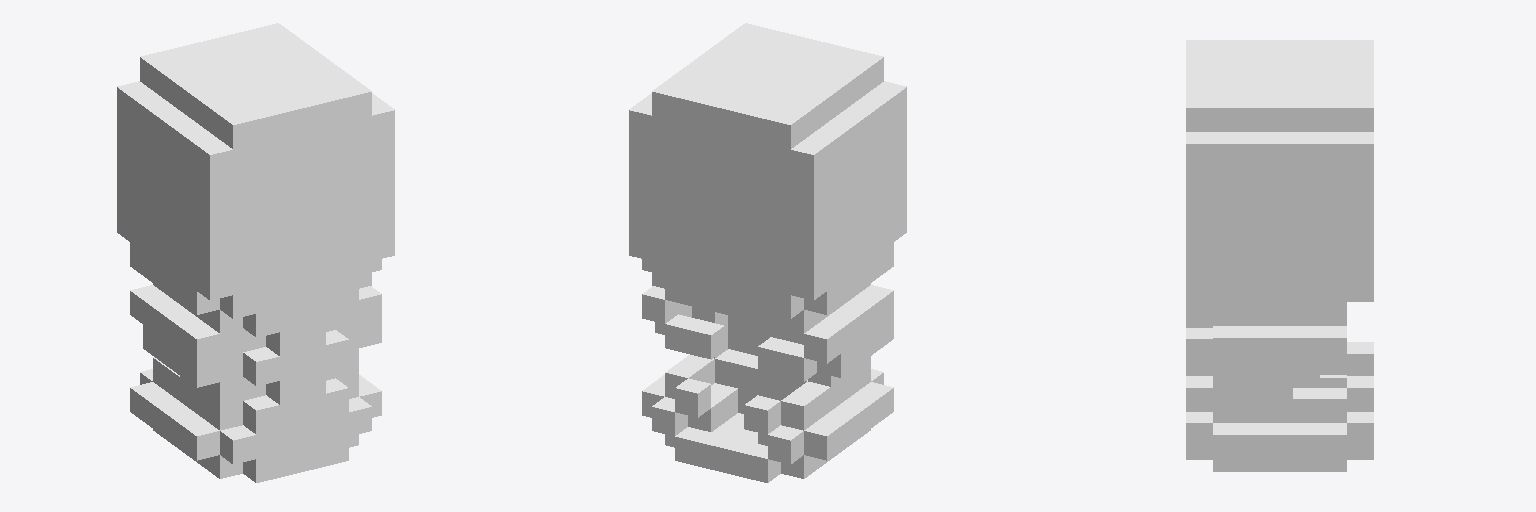
The model's file is SkeletonBody.obj.
3 renders of one model, left to right at view 1: azimuth 30°, elevation 25°; view 2: azimuth 150°, elevation 25°; view 3: azimuth 270°, elevation 25°, orthographic.
Bounding box in the file's own units: 8 × 15 × 7.